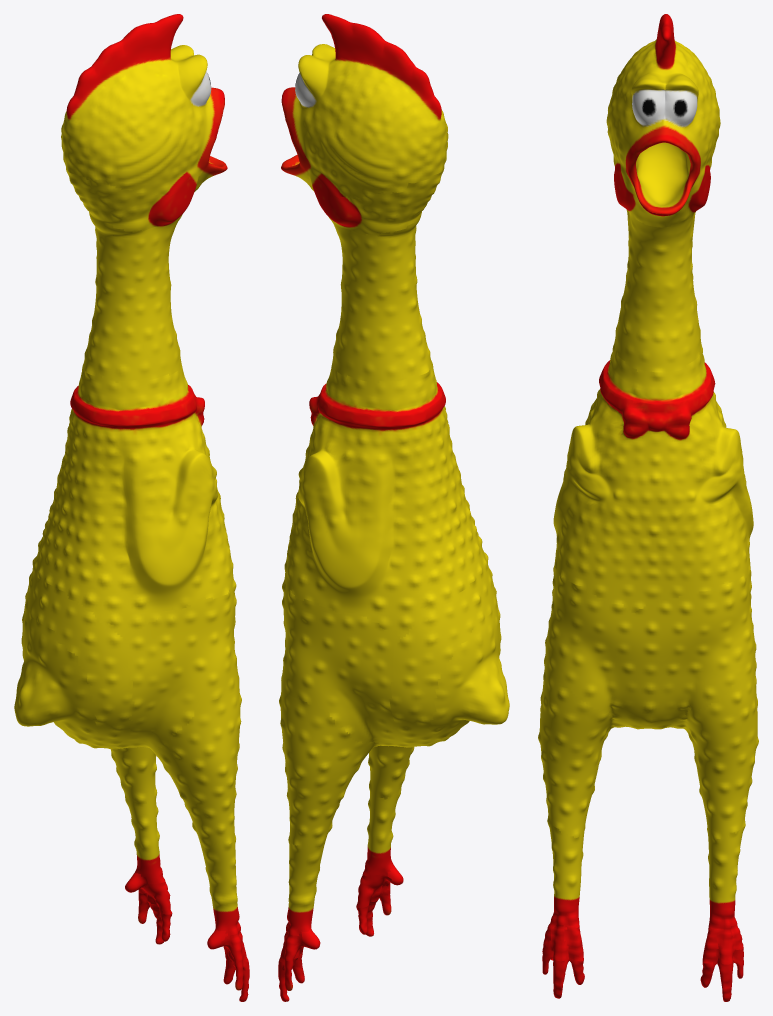
File: chicken_1.fbx
The picture shows the model from 3 angles, left to right: view 1: azimuth 30°, elevation 25°; view 2: azimuth 150°, elevation 25°; view 3: azimuth 270°, elevation 25°; orthographic projection.
Visible parts, largest first — view 1: chicken; view 2: chicken; view 3: chicken.
Part boxes in pixels (left/top/right/bottom): chicken: left=14, top=14, right=249, bottom=1001; chicken: left=278, top=14, right=509, bottom=1001; chicken: left=538, top=14, right=758, bottom=1001.
Bounding box in the file's own units: 155 × 668 × 139.
Materials: 1 (1 with a texture image).
